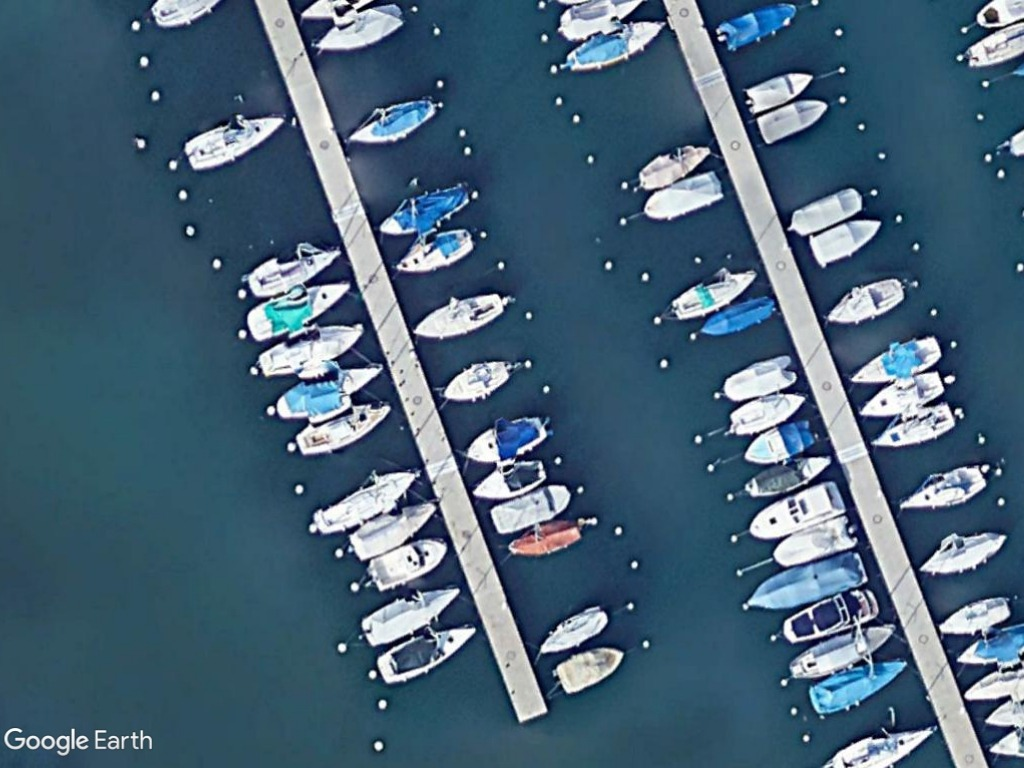boat: (745, 550, 869, 616), (313, 467, 420, 538), (784, 624, 899, 686), (255, 318, 366, 382), (275, 355, 382, 420), (357, 583, 465, 647), (377, 621, 480, 687), (181, 109, 286, 172), (561, 13, 668, 74), (744, 480, 845, 543), (249, 277, 352, 338), (295, 397, 393, 461), (808, 654, 907, 715), (247, 241, 346, 301), (850, 328, 945, 390), (375, 181, 471, 242), (779, 588, 883, 642), (348, 499, 438, 561), (765, 517, 864, 572), (897, 459, 988, 517), (312, 1, 407, 56), (858, 367, 951, 423), (409, 289, 504, 343), (873, 399, 960, 456), (346, 95, 437, 149), (916, 528, 1008, 581), (641, 169, 728, 225), (713, 0, 803, 54), (668, 266, 756, 321), (393, 226, 480, 279), (466, 413, 549, 468), (486, 479, 571, 532), (366, 537, 451, 590), (788, 184, 867, 240), (805, 216, 885, 271), (824, 274, 907, 327), (741, 452, 832, 498), (633, 141, 717, 190), (719, 352, 798, 403), (724, 391, 807, 439), (741, 416, 821, 465), (442, 355, 515, 407), (699, 293, 777, 341), (936, 594, 1012, 642), (468, 455, 547, 501), (553, 642, 624, 693), (755, 96, 827, 146), (740, 65, 814, 113), (506, 516, 586, 560), (539, 603, 608, 653)
